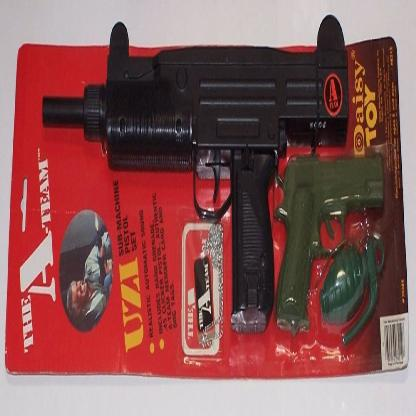Grenade: (319, 229, 387, 349)
Gun: (42, 9, 350, 338)
Pistol: (272, 146, 384, 334)
